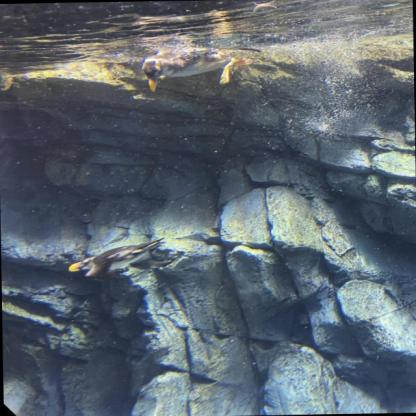puffin: (141, 46, 250, 92), (68, 236, 176, 280)
